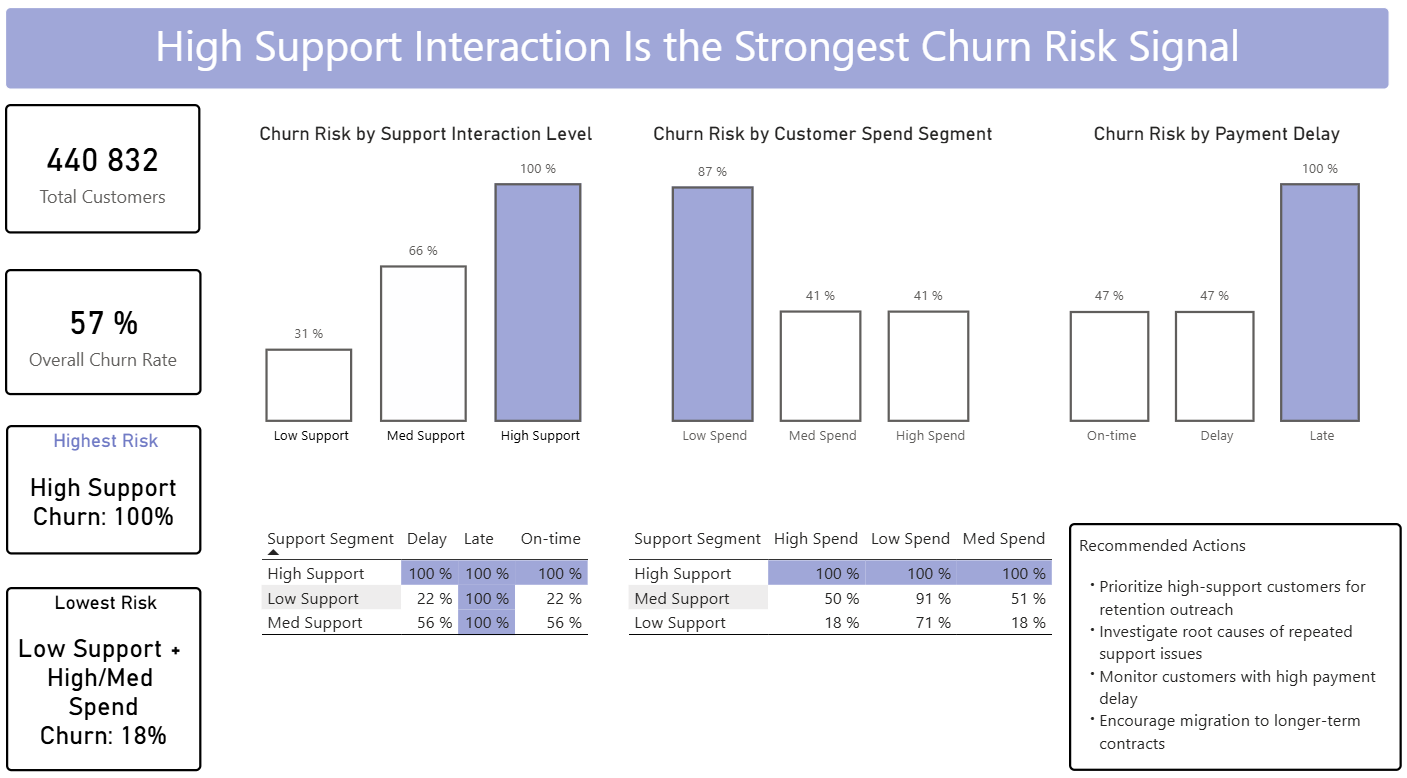

This screenshot's page, from the dashboard's own definition file:
{"tool":"powerbi","page":{"name":"Page 1","canvas":[1280,720],"ordinal":0},"visuals":[{"type":"card","fields":{"Values":["CountNonNull(customer_db customer_segments.customerID)"]},"box":[15.9,99.4,175,97.6],"z":0},{"type":"clusteredColumnChart","title":"Churn Risk by Support Interaction Level","fields":{"Category":["customer_db customer_segments.support_segment"],"Y":["customer_db customer_segments.Churn_rate"]},"box":[203.8,169.4,379.5,298.9],"z":1000},{"type":"pivotTable","fields":{"Rows":["customer_db customer_segments.support_segment"],"Columns":["customer_db customer_segments.payment_segment"],"Values":["customer_db customer_segments.Churn_rate"]},"box":[242.9,569.9,322.4,121.8],"z":2000},{"type":"clusteredColumnChart","title":"Churn Risk by Customer Spend Segment","fields":{"Y":["customer_db customer_segments.Churn_rate"],"Category":["customer_db customer_segments.spend_segment"]},"box":[576.3,169.4,357.9,298.6],"z":3000},{"type":"clusteredColumnChart","title":"Churn Risk by Payment Delay","fields":{"Y":["customer_db customer_segments.Churn_rate"],"Category":["customer_db customer_segments.payment_segment"]},"box":[927.2,169.4,349.2,298.6],"z":4000},{"type":"textbox","box":[16,16,1248,72],"z":5000},{"type":"textbox","box":[16,472,176,152],"z":6000},{"type":"pivotTable","fields":{"Rows":["customer_db customer_segments.support_segment"],"Columns":["customer_db customer_segments.spend_segment"],"Values":["customer_db customer_segments.Churn_rate"]},"box":[547.3,569.9,393.1,121.8],"z":7000},{"type":"card","fields":{"Values":["customer_db customer_segments.Churn_rate"]},"box":[16,224,176,104],"z":8000},{"type":"card","title":"Highest Risk","fields":{"Values":["customer_db customer_segments.Risk_Card"]},"box":[16,360,176,104],"z":9000},{"type":"card","title":"Lowest Risk","fields":{"Values":["customer_db customer_segments.Low_Risk_Card"]},"box":[16,496,176,168],"z":10000},{"type":"textbox","box":[928,480,336,184],"z":11000},{"type":"textbox","box":[232,96,976,56],"z":12000}]}

Visuals, with their boxes in screenshot pixels (x1, y1, x2, y2), scaled from the page's 1280x720 canvas onto the 1407x778 screenshot:
card - CountNonNull(customer_db customer_segments.customerID): detection(17, 107, 210, 213)
"Churn Risk by Support Interaction Level" clusteredColumnChart: detection(224, 183, 641, 506)
pivotTable - customer_db customer_segments.support_segment x customer_db customer_segments.payment_segment: detection(267, 616, 621, 747)
"Churn Risk by Customer Spend Segment" clusteredColumnChart: detection(633, 183, 1027, 506)
"Churn Risk by Payment Delay" clusteredColumnChart: detection(1019, 183, 1403, 506)
textbox: detection(18, 17, 1389, 95)
textbox: detection(18, 510, 211, 674)
pivotTable - customer_db customer_segments.support_segment x customer_db customer_segments.spend_segment: detection(602, 616, 1034, 747)
card - customer_db customer_segments.Churn_rate: detection(18, 242, 211, 354)
"Highest Risk" card: detection(18, 389, 211, 501)
"Lowest Risk" card: detection(18, 536, 211, 717)
textbox: detection(1020, 519, 1389, 717)
textbox: detection(255, 104, 1328, 164)
